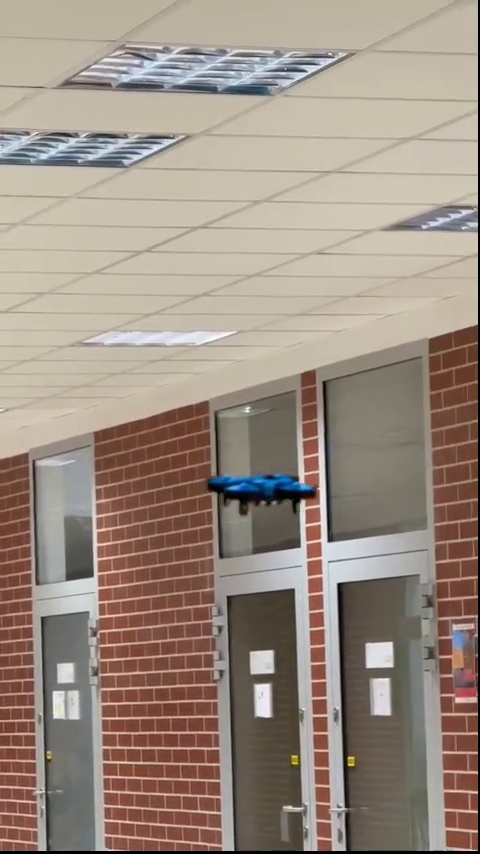drone: (211, 470, 315, 512)
